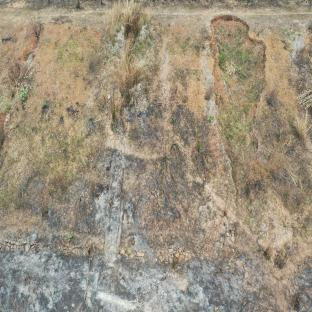slope_drain: (101, 137, 125, 267)
